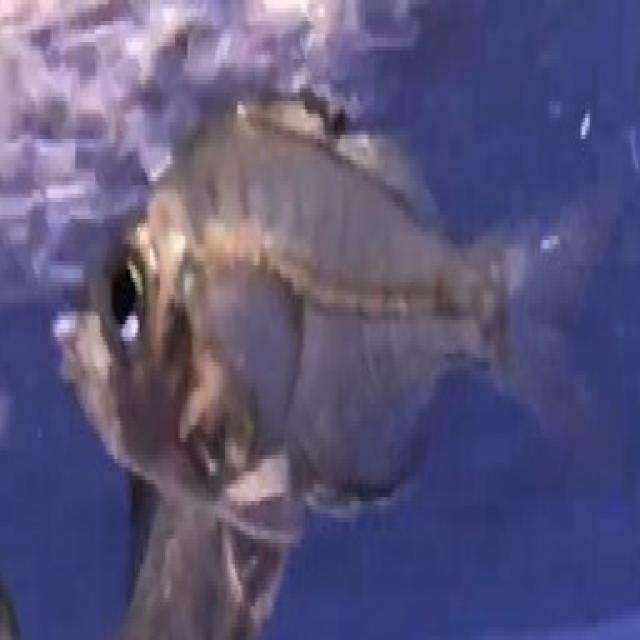Glass-Perchlet: (37, 0, 638, 612)
